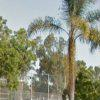Palm tree: (43, 4, 95, 86)
